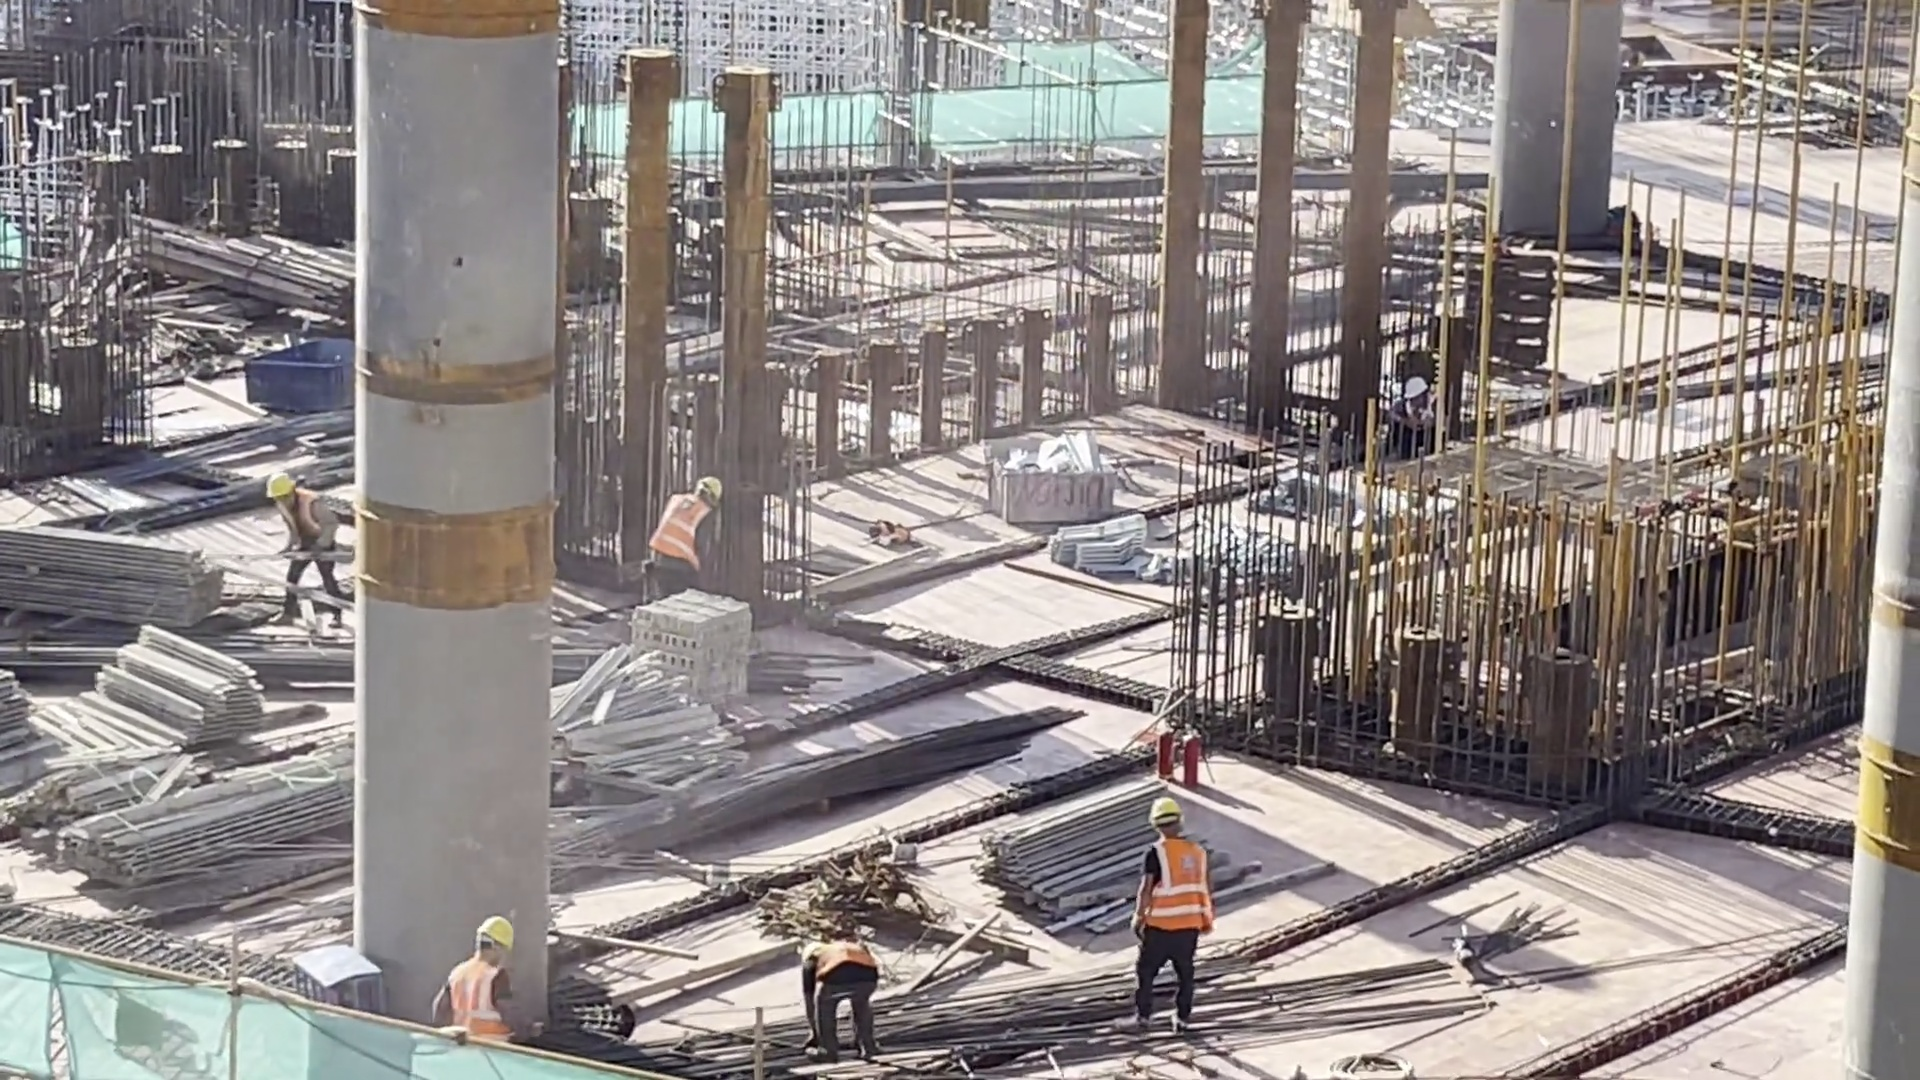helmet: (474, 901, 516, 952), (701, 471, 734, 517), (794, 921, 823, 962), (1408, 372, 1433, 404), (1158, 801, 1184, 826), (268, 471, 293, 496)
hopper: (254, 316, 364, 421), (976, 434, 1126, 506)
person: (773, 910, 884, 1055), (1151, 788, 1213, 1023), (248, 466, 341, 611), (456, 890, 534, 1040), (651, 460, 714, 586), (1396, 361, 1446, 466)
rebar: (560, 957, 1460, 1053), (1, 627, 856, 701), (577, 720, 1070, 804), (1613, 323, 1920, 420), (98, 388, 364, 483)
vest: (1143, 831, 1214, 932), (288, 486, 348, 546), (806, 942, 873, 992), (648, 497, 708, 551), (456, 966, 509, 1026), (1394, 404, 1443, 432)
wood: (204, 231, 329, 316)
